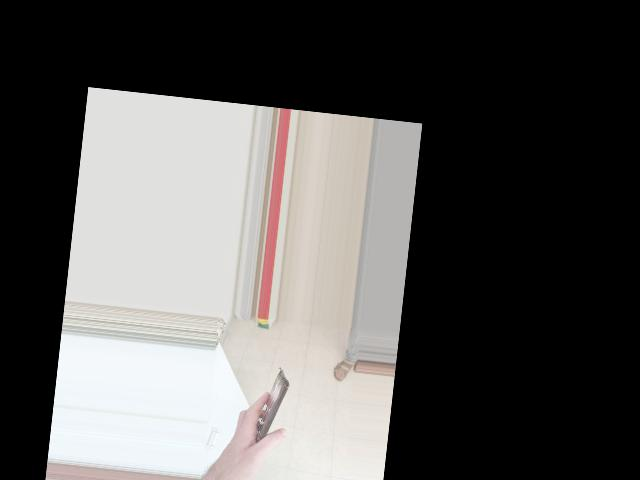chocolate: (230, 361, 293, 480)
